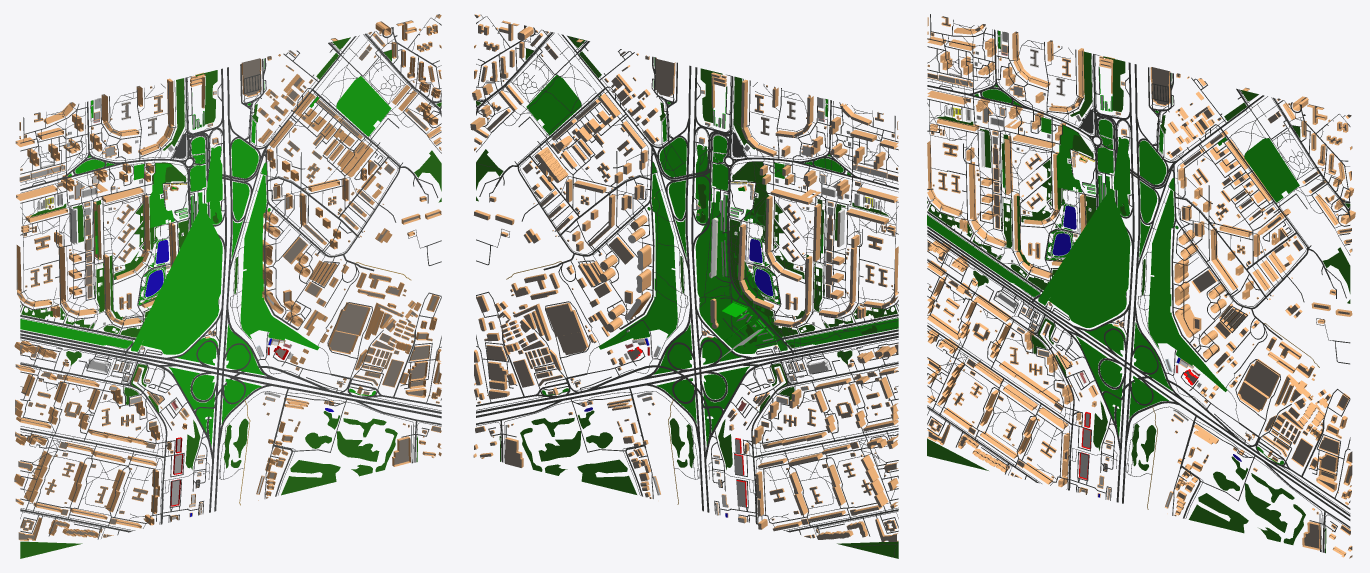
Rendered from tile.026.fbx.
3 views of the same model, side by side, from view 1: azimuth 30°, elevation 25°; view 2: azimuth 150°, elevation 25°; view 3: azimuth 330°, elevation 25° (orthographic).
Parts seen in each view (by area): view 1: tile.026; view 2: tile.026; view 3: tile.026.
Part boxes in pixels (<box>): tile.026: <box>14,14,441,558</box>; tile.026: <box>470,14,898,558</box>; tile.026: <box>927,14,1355,558</box>.
Bounding box in the file's own units: 400 × 400 × 65.01.
